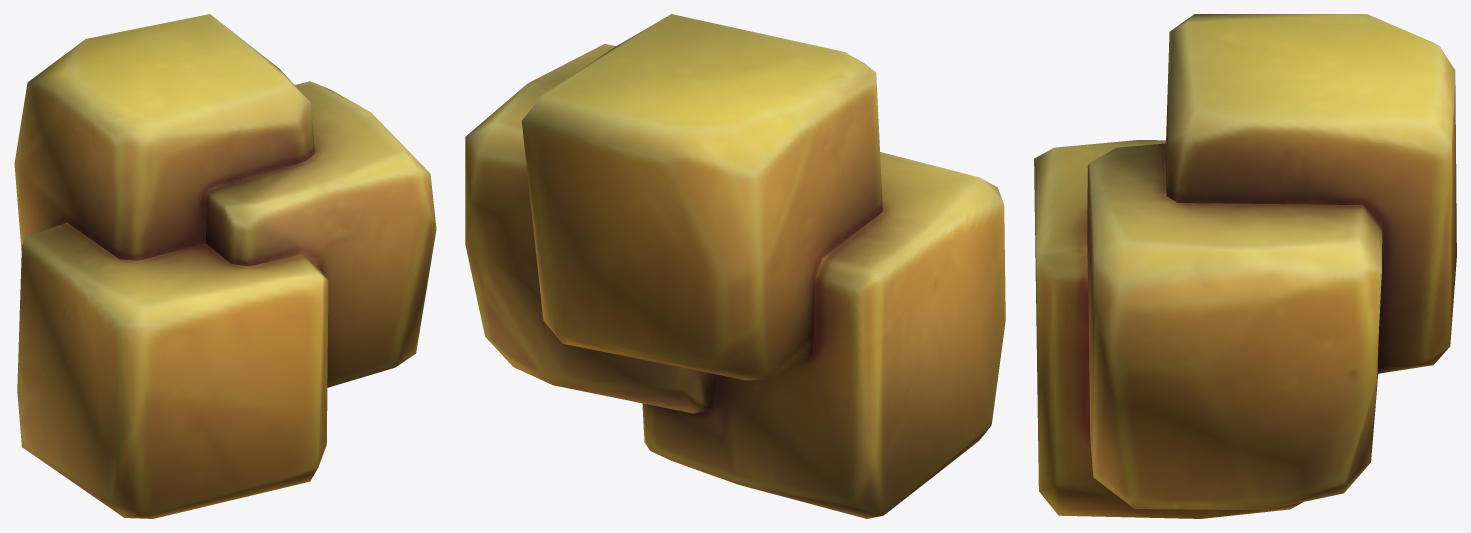
The model's file is SM_Gem_Gold_005.fbx.
The picture shows the model from 3 angles, left to right: view 1: azimuth 30°, elevation 25°; view 2: azimuth 150°, elevation 25°; view 3: azimuth 270°, elevation 25°; orthographic projection. The views are drawn at different scales.
Visible parts, largest first — view 1: SM_Gem_Gold_005; view 2: SM_Gem_Gold_005; view 3: SM_Gem_Gold_005.
Part boxes in pixels (box(x1,y1,x2,y2)): SM_Gem_Gold_005: box(14, 14, 436, 518); SM_Gem_Gold_005: box(465, 14, 1005, 518); SM_Gem_Gold_005: box(1034, 14, 1456, 518).
Bounding box in the file's own units: 24.73 × 24.17 × 21.53.
